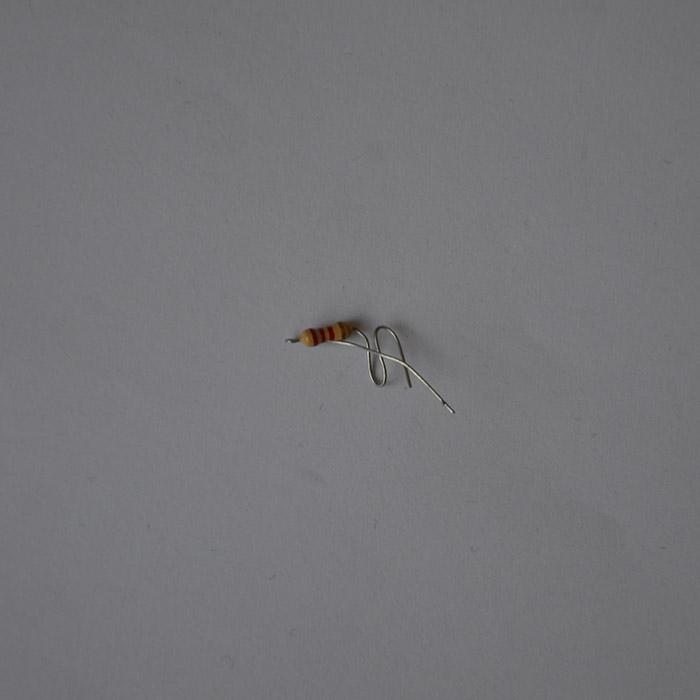resistor: (292, 320, 356, 347)
